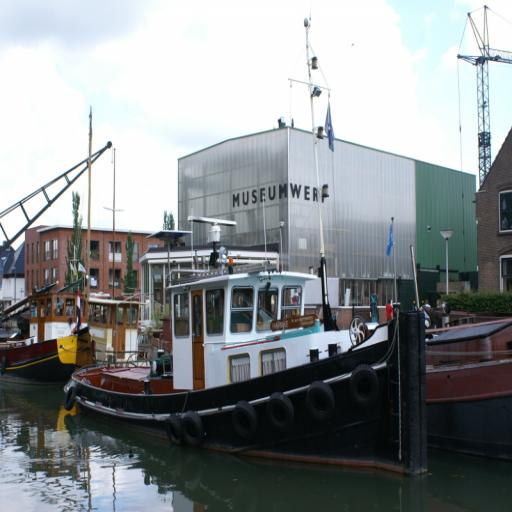tugboat: (61, 214, 434, 492)
